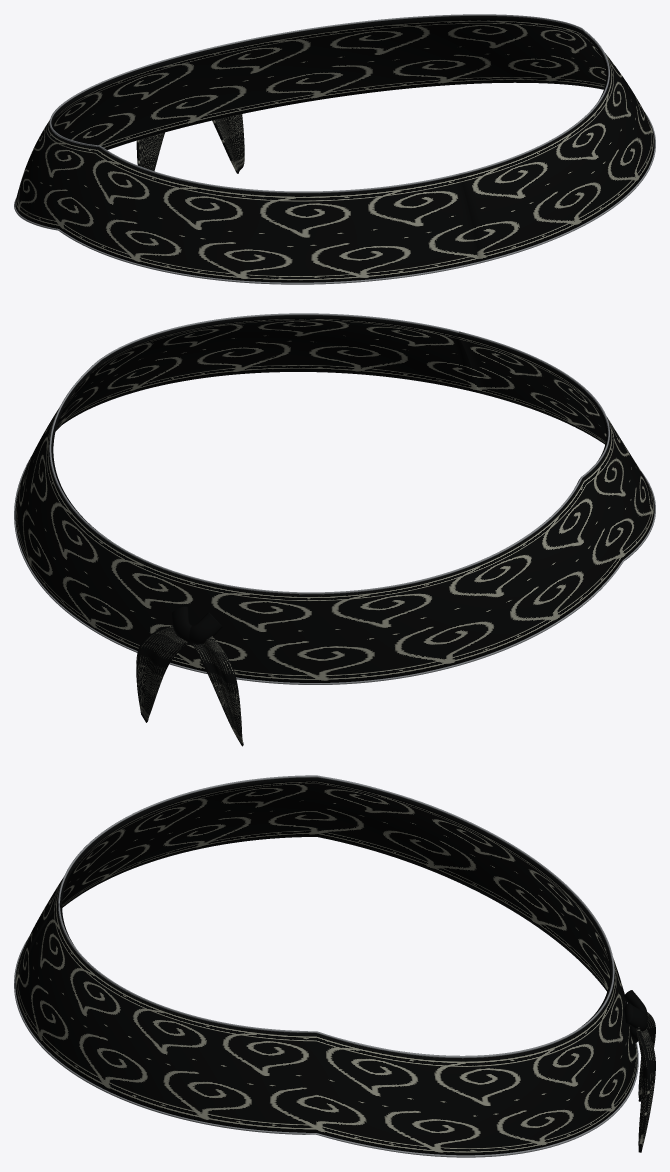
The model's file is Masculine-curly-top-bandana-headgear.glb.
The picture shows the model from 3 angles, top to bottom: view 1: azimuth 30°, elevation 25°; view 2: azimuth 150°, elevation 25°; view 3: azimuth 270°, elevation 25°; orthographic projection. The views are drawn at different scales.
Parts seen in each view (by area): view 1: 226 headgear / Headwear / bandana235, 226 headgear / Headwear / bandana hem235; view 2: 226 headgear / Headwear / bandana235, 226 headgear / Headwear / bandana hem235; view 3: 226 headgear / Headwear / bandana235, 226 headgear / Headwear / bandana hem235.
Boxes of the visible parts, x1,y1,x2,y2 form: 226 headgear / Headwear / bandana235: (15,16,654,282); 226 headgear / Headwear / bandana hem235: (14,14,655,284); 226 headgear / Headwear / bandana235: (15,315,654,746); 226 headgear / Headwear / bandana hem235: (14,313,655,684); 226 headgear / Headwear / bandana235: (15,777,655,1155); 226 headgear / Headwear / bandana hem235: (14,775,638,1157).
Bounding box in the file's own units: 0.9484 × 0.3303 × 0.8524.
2 materials, 1 textured.
